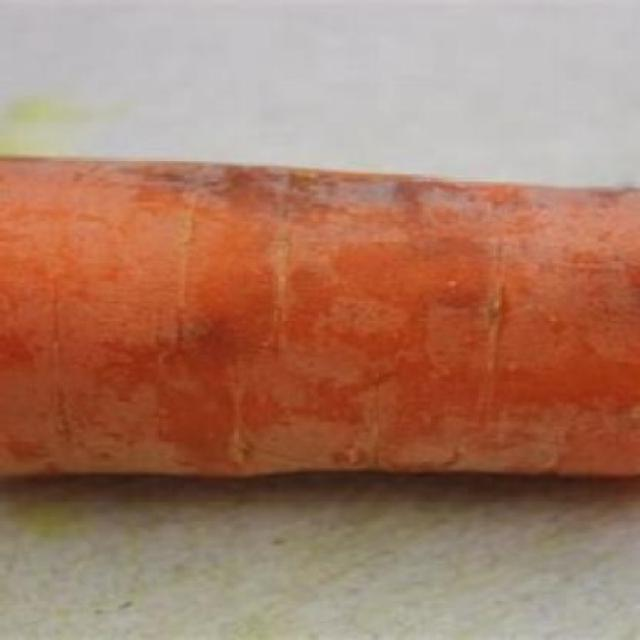carrot: (1, 138, 640, 506)
